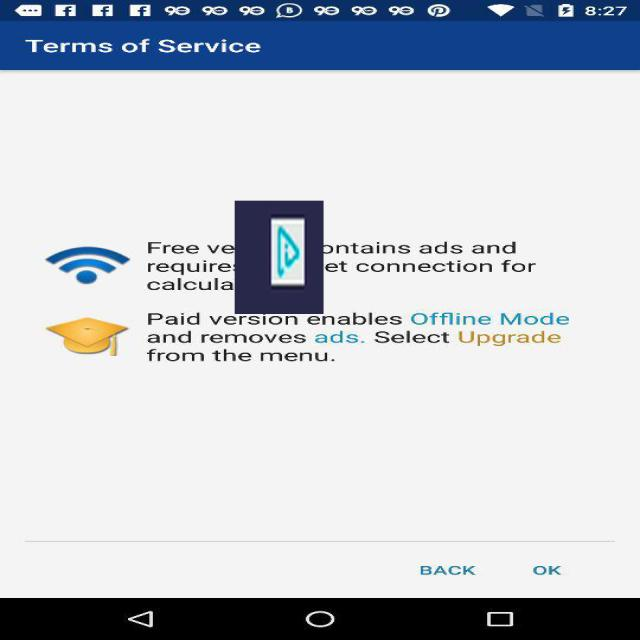sneaking: (234, 201, 324, 314)
